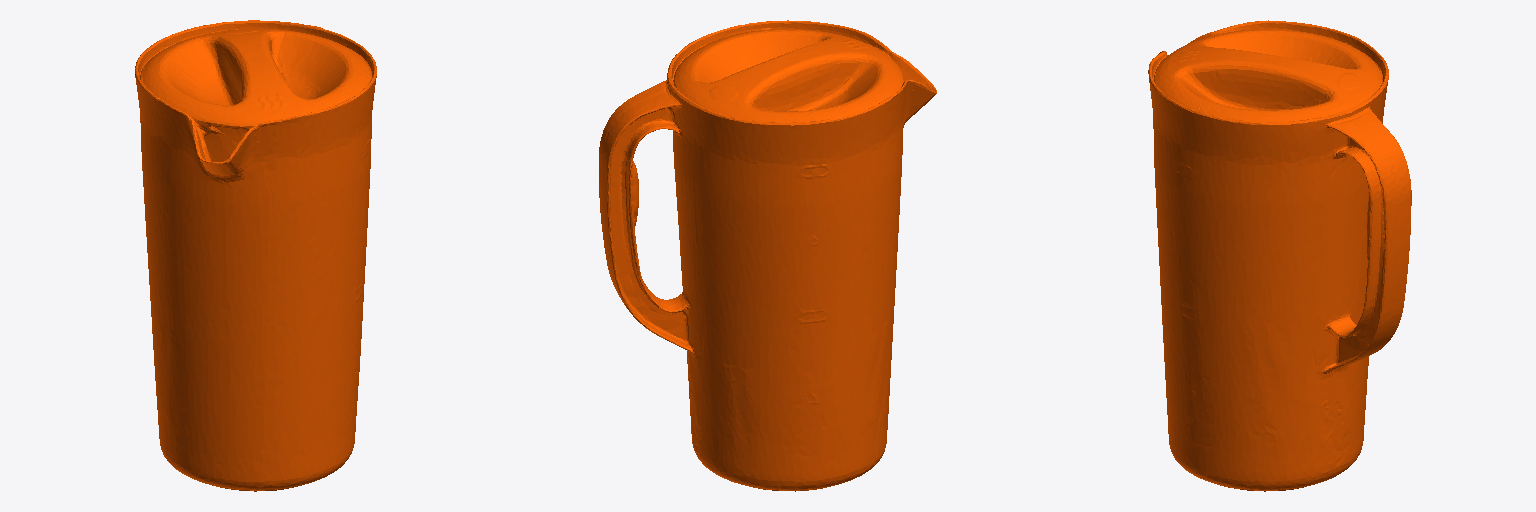
robot.urdf — 019_pitcher_base:
<?xml version="1.0" ?>
<robot name="019_pitcher_base">
   <material name="obj_color">
      <color rgba="1.0 0.423529411765 0.0392156862745 1.0"/>
   </material>
   <link name="top">
      <inertial>
         <origin rpy="0.009217144957645721 0.02600588814970846 0.02631756004033746" xyz="-0.01336614365980959 -0.01274714096680053 -0.0252400977364002"/>
         <mass value="4.996083440028278"/>
         <inertia ixx="0.02614586195759216" ixy="-0.0001566244821187964" ixz="-0.0001192396700110723" iyy="0.02617405158723681" iyz="-0.0002126512545398974" izz="0.00922067960286267"/>
      </inertial>
      <visual>
         <origin rpy="0 0 0" xyz="0 0 0"/>
         <geometry>
            <mesh filename="top_watertight_tiny.stl" scale="1 1 1"/>
         </geometry>
         <material name="obj_color"/>
      </visual>
      <collision>
         <origin rpy="0 0 0" xyz="0 0 0"/>
         <geometry>
            <mesh filename="top_watertight_tiny.obj" scale="1 1 1"/>
         </geometry>
      </collision>
   </link>
   <link name="bottom">
      <inertial>
         <origin rpy="1.633333333199431e-08 1.633333333199431e-08 1.633333333362855e-08" xyz="0.3464080000000008 0.3464080000000008 0.3464080000000008"/>
         <mass value="0.0009800000000000017"/>
         <inertia ixx="1.633333333253906e-08" ixy="5.447480642029219e-19" ixz="5.447480642029219e-19" iyy="1.633333333253906e-08" iyz="5.447480642029219e-19" izz="1.633333333253906e-08"/>
      </inertial>
      <visual>
         <origin rpy="0 0 0" xyz="0 0 0"/>
         <geometry>
            <mesh filename="bottom_watertight_tiny.stl" scale="1 1 1"/>
         </geometry>
         <material name="obj_color"/>
      </visual>
   </link>
   <joint name="rotation" type="revolute">
      <origin xyz="0 0 0"/>
      <axis xyz="0 0 -1"/>
      <parent link="bottom"/>
      <child link="top"/>
      <dynamics damping="1.0" friction="1.0"/>
      <limit effort="0.1" velocity="0.1" lower="0" upper="0.001"/>
   </joint>
</robot>

--- What the picture shows (computed from the rendered views, not written in the file) ---
3 views of the same robot in one strip: view 1: azimuth 30°, elevation 25°; view 2: azimuth 150°, elevation 25°; view 3: azimuth 270°, elevation 25° (orthographic).
Robot: 019_pitcher_base — 2 links, 1 joints (1 revolute); root link bottom; default pose: all joints at 0.
Links seen in each view (by area): view 1: top; view 2: top; view 3: top.
Link boxes in pixels (x1,y1,x2,y2): top: (135,20,376,491); top: (599,20,936,491); top: (1148,20,1411,491).
Size in the robot's own frame: 0.1491 by 0.1448 by 0.2424 metres.
Meshes: 2 distinct files referenced, 1 mesh visuals loaded (1 binary STL); not drawn: 1 (reference not matched to a file when rendering).
